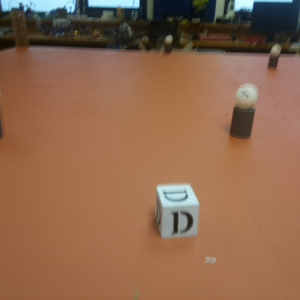obstacle: (231, 83, 255, 141), (267, 44, 281, 72), (164, 36, 173, 52)
slope: (13, 9, 26, 50)
